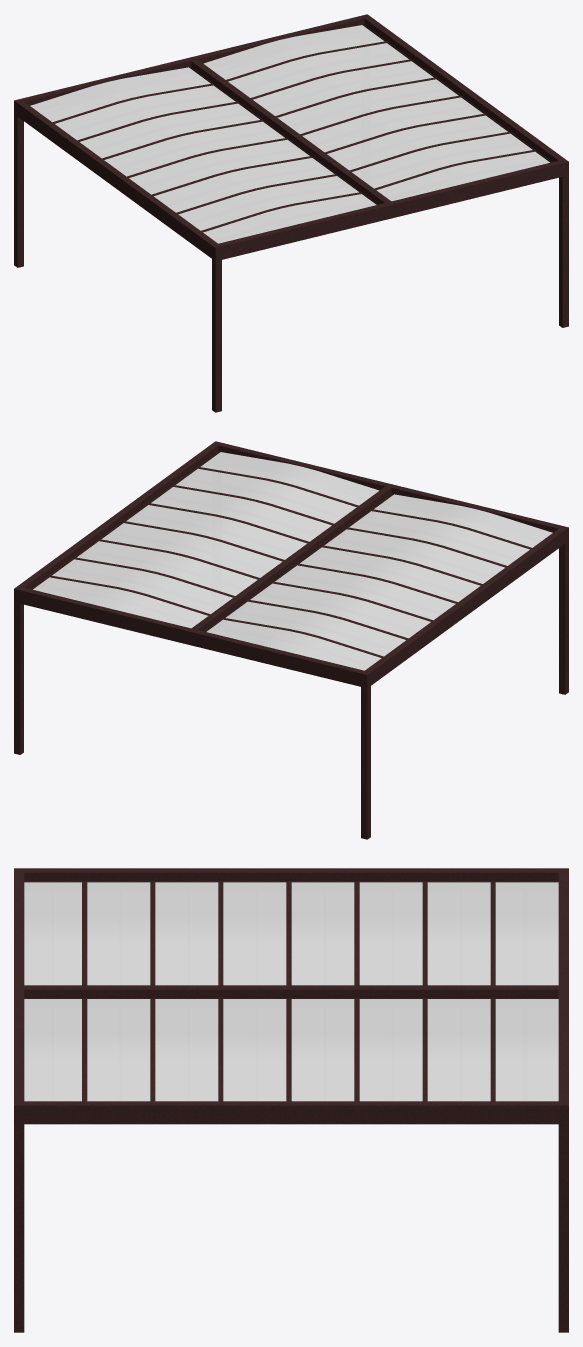
Rendered from hyrcaryaad-h24-w54-d53_rustycopper.fbx.
The picture shows the model from 3 angles, top to bottom: view 1: azimuth 30°, elevation 25°; view 2: azimuth 150°, elevation 25°; view 3: azimuth 270°, elevation 25°; orthographic projection. The views are drawn at different scales.
Visible parts, largest first — view 1: hyrcaryaad-h24-w54-d53-rustycopper; view 2: hyrcaryaad-h24-w54-d53-rustycopper; view 3: hyrcaryaad-h24-w54-d53-rustycopper.
Part boxes in pixels (x1,y1,x2,y2): hyrcaryaad-h24-w54-d53-rustycopper: [14, 14, 568, 412]; hyrcaryaad-h24-w54-d53-rustycopper: [14, 441, 568, 839]; hyrcaryaad-h24-w54-d53-rustycopper: [14, 868, 568, 1332].
Size of the model in its own units: 550 by 245 by 543.
Materials: 2 (1 with a texture image).
